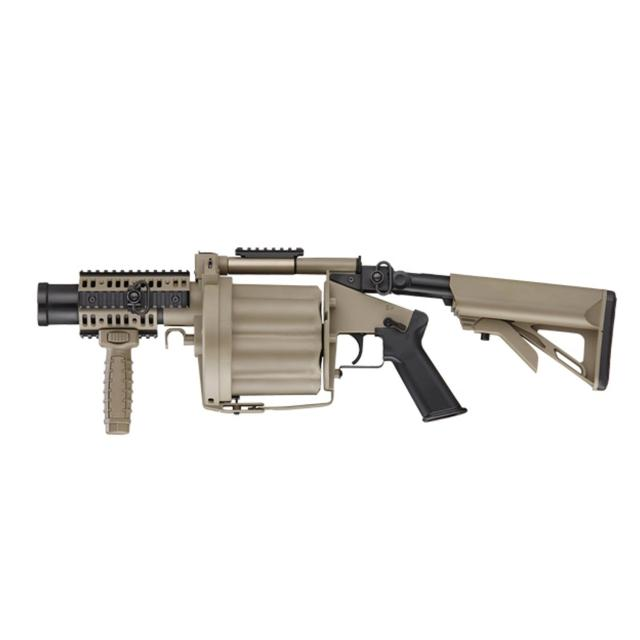Weapon: (27, 240, 620, 439)
